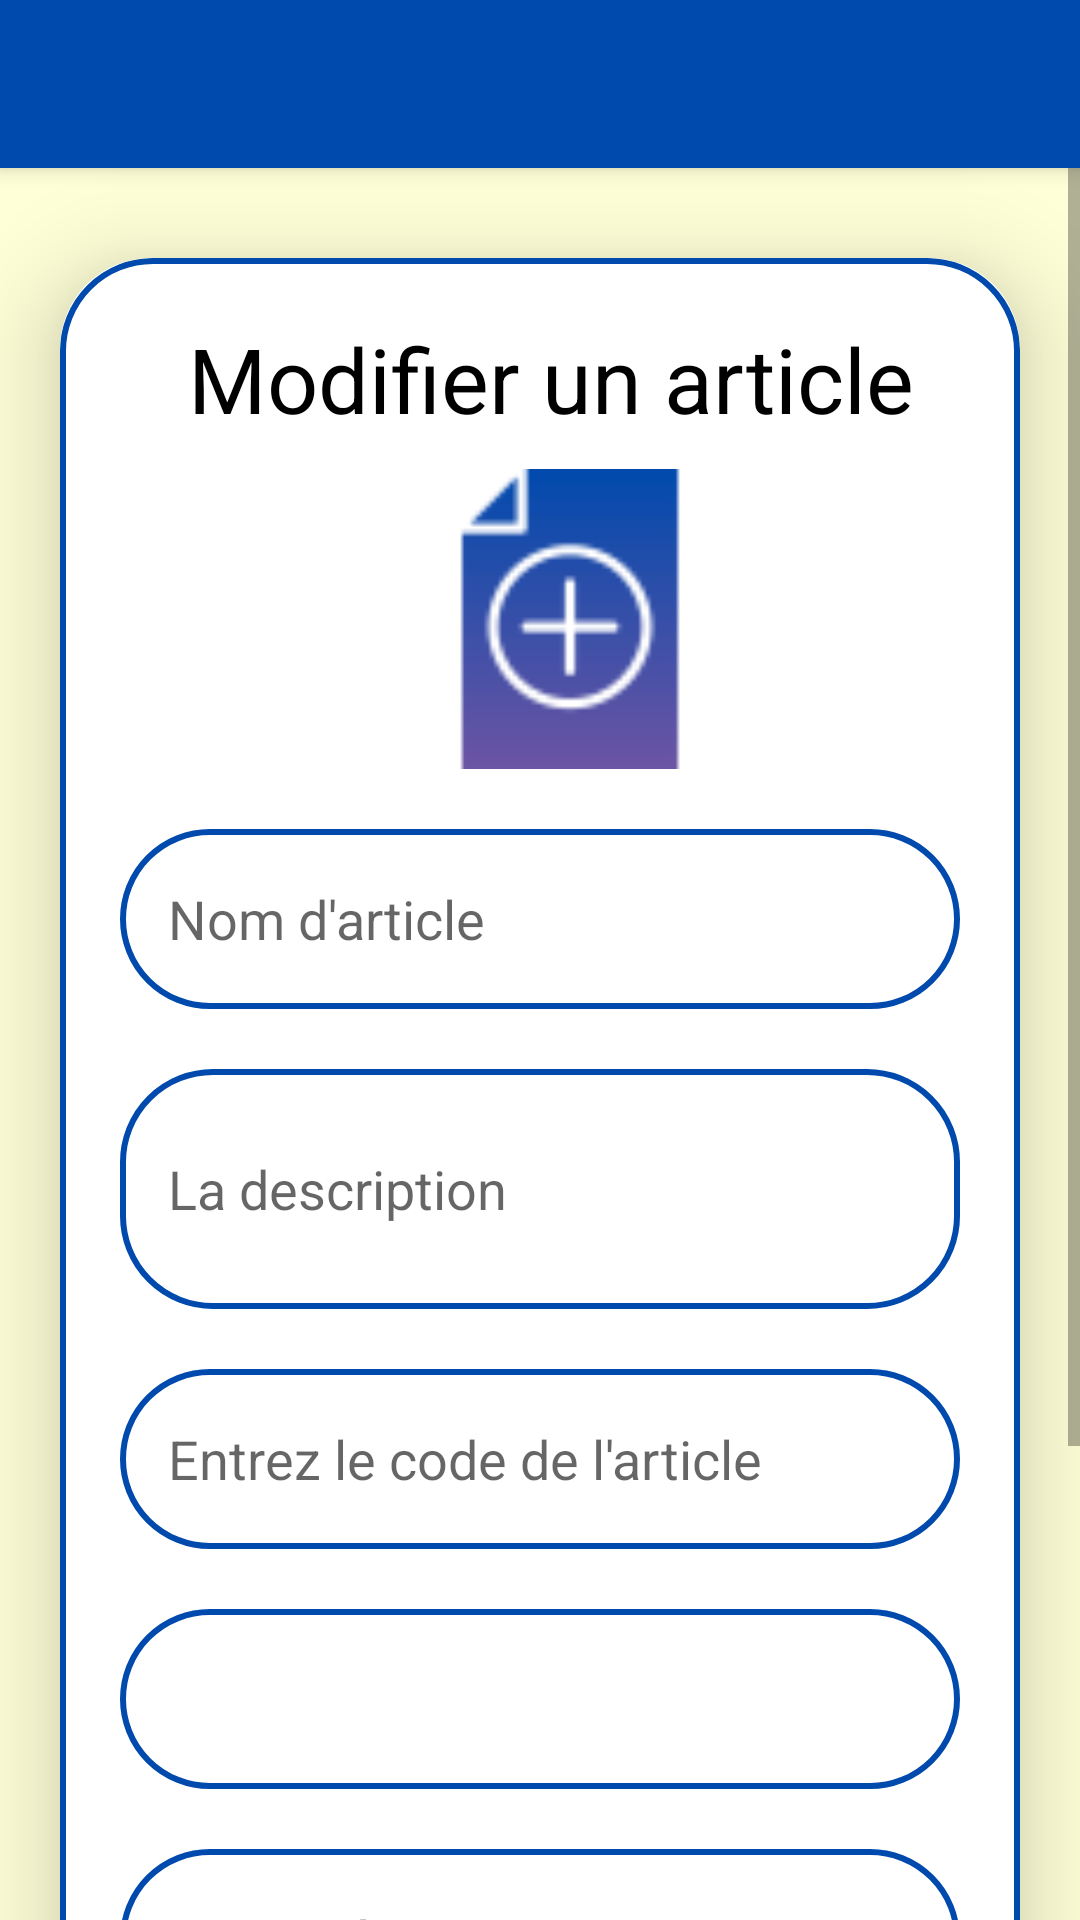

Named icons in this screenshot (1080*1920) and their centers, [x,y]:
uploadimage: [570,619]
